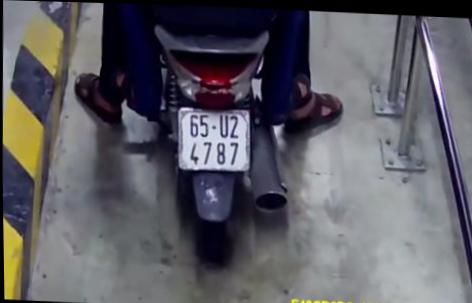LP: (178, 102, 256, 175)
